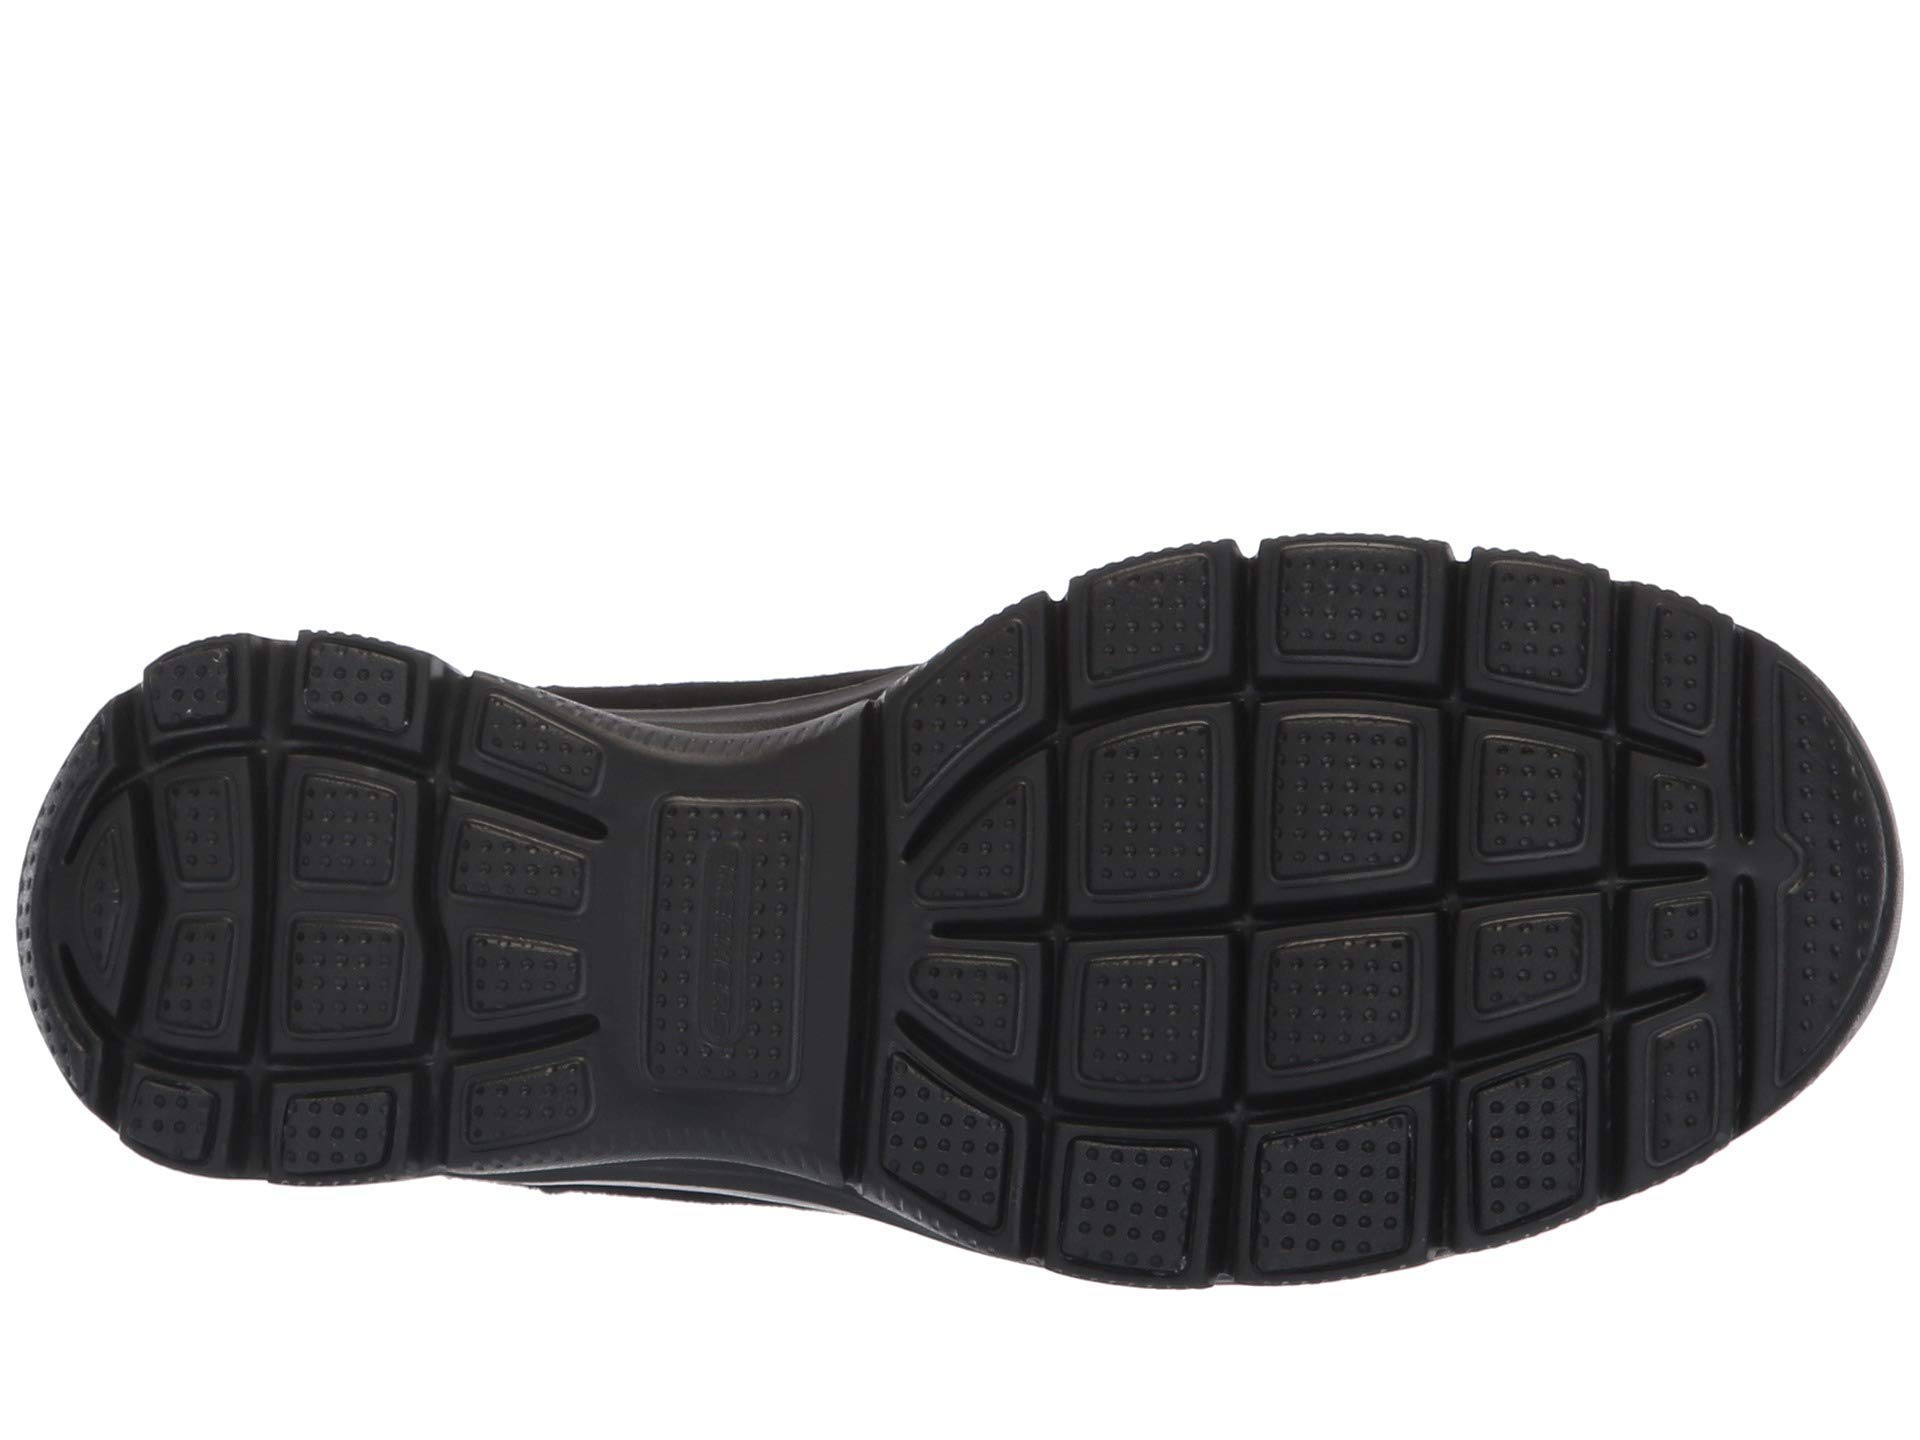circle: (1058, 653, 1604, 1248), (154, 740, 426, 1063), (1645, 770, 1723, 855)
quad: (1058, 653, 1604, 1248), (154, 740, 426, 1063), (1645, 770, 1723, 855)
